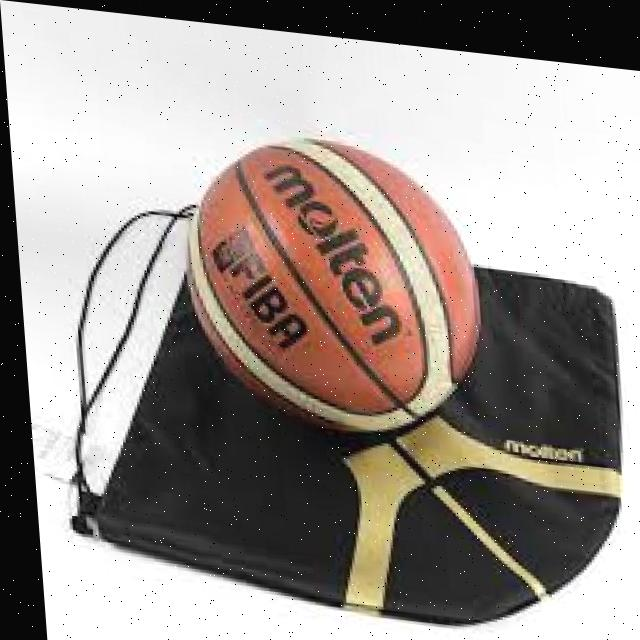Basketball: (179, 129, 488, 446)
